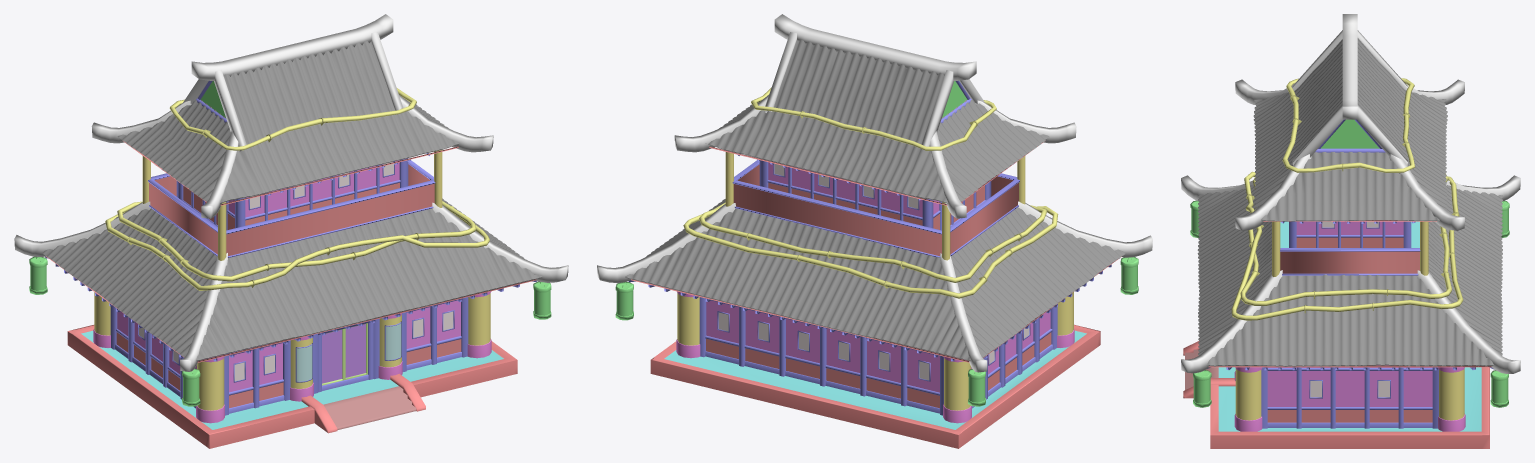
File: SM_ENV_LKNVLD_Building_C_Lod1.gltf
3 renders of one model, left to right at view 1: azimuth 30°, elevation 25°; view 2: azimuth 150°, elevation 25°; view 3: azimuth 270°, elevation 25°, orthographic.
Parts seen in each view (by area): view 1: SM_ENV_LKNVLD_Building_C_Lod1; view 2: SM_ENV_LKNVLD_Building_C_Lod1; view 3: SM_ENV_LKNVLD_Building_C_Lod1.
Boxes of the visible parts, left/top/right/bottom form: SM_ENV_LKNVLD_Building_C_Lod1: left=14, top=14, right=568, bottom=448; SM_ENV_LKNVLD_Building_C_Lod1: left=597, top=14, right=1152, bottom=448; SM_ENV_LKNVLD_Building_C_Lod1: left=1181, top=14, right=1520, bottom=448.
Bounding box in the file's own units: 26.35 × 20.58 × 20.18.
